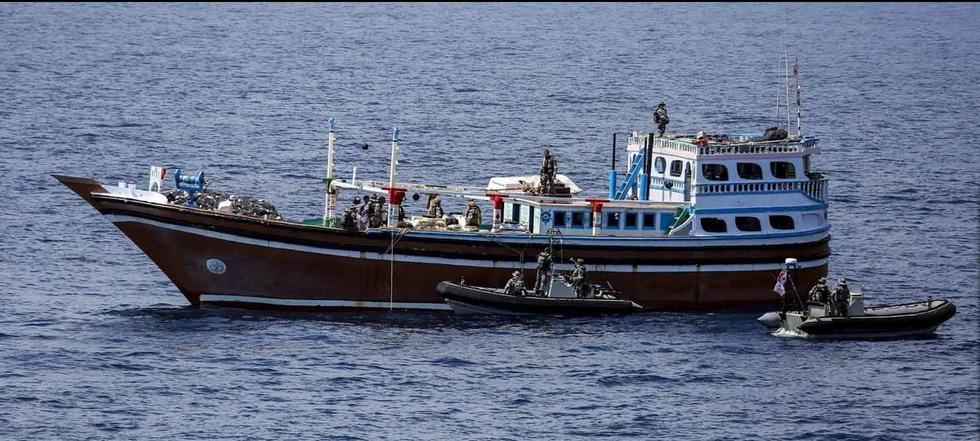otherboat: (22, 94, 838, 311), (441, 243, 646, 322), (759, 264, 958, 340)
